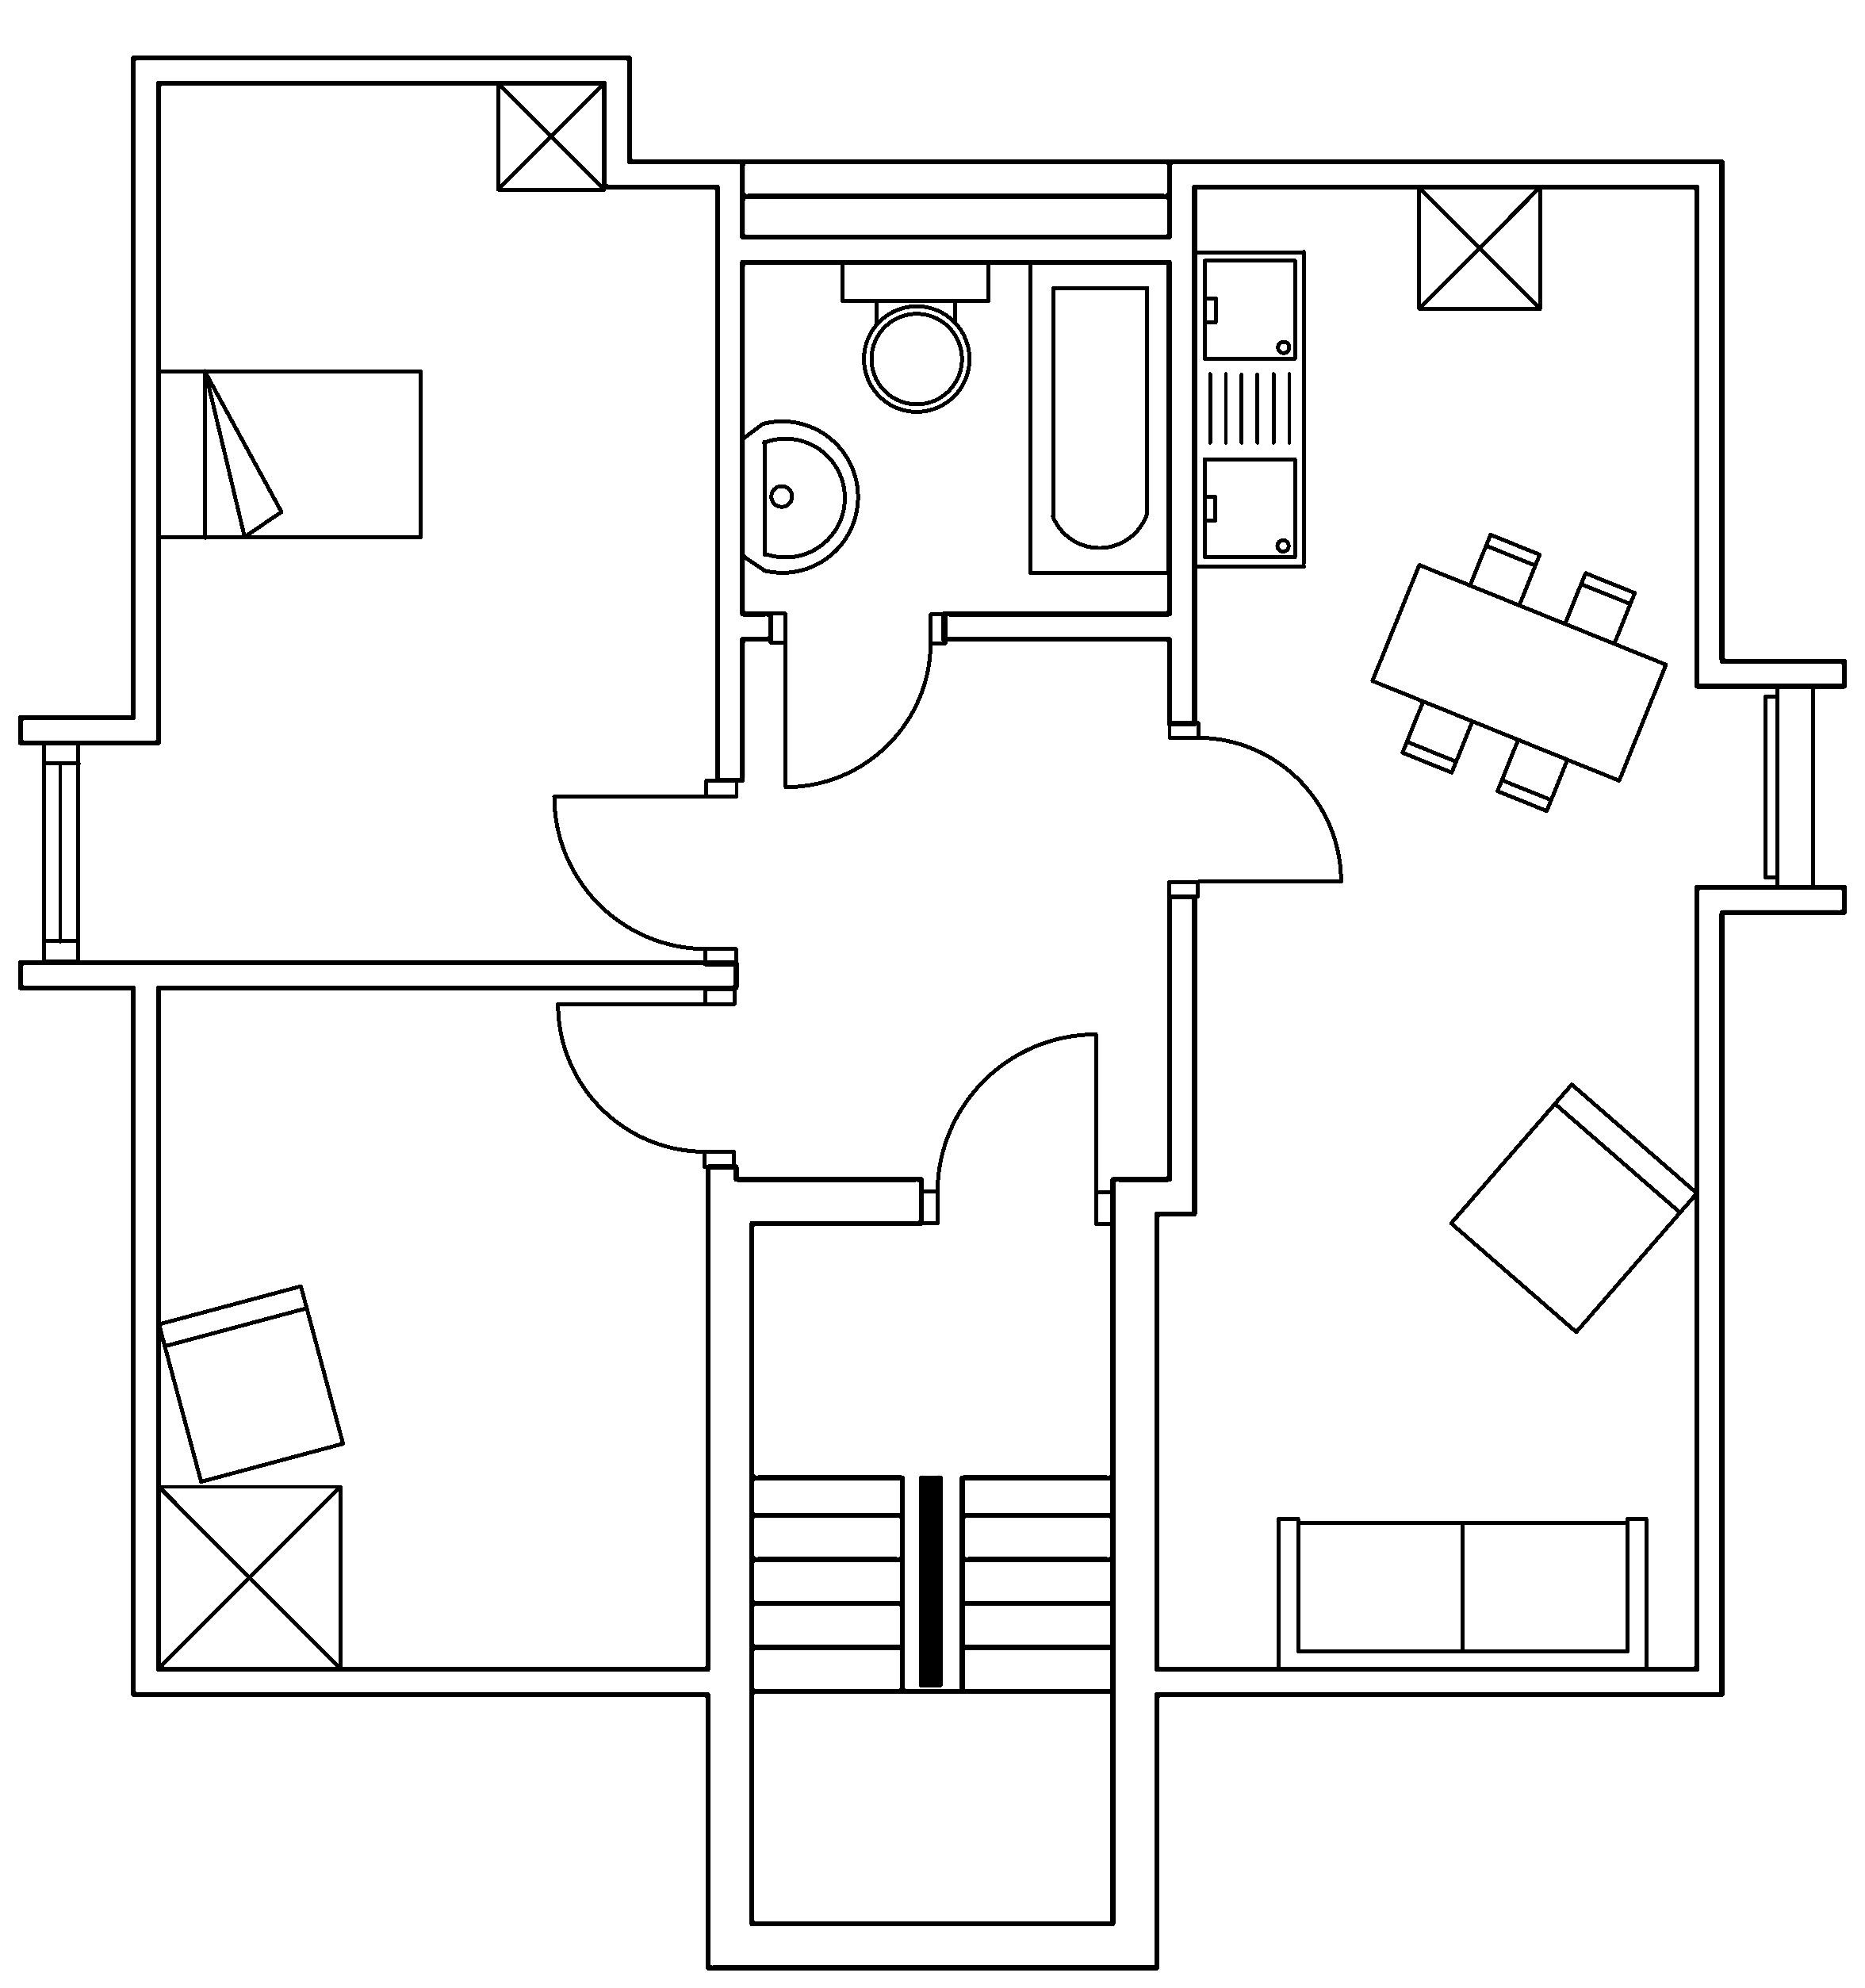bed: (154, 366, 424, 540)
coffee_table: (154, 1481, 342, 1671), (1416, 182, 1542, 310), (494, 79, 606, 191)
dining_table: (1369, 531, 1669, 813)
large_sink: (840, 258, 990, 412)
large_sofa: (1274, 1515, 1648, 1672)
small_sink: (740, 419, 859, 573)
small_sofa: (1448, 1080, 1698, 1334), (156, 1282, 345, 1483)
tub: (1027, 258, 1171, 575)
twin_sink: (1192, 247, 1308, 570)
